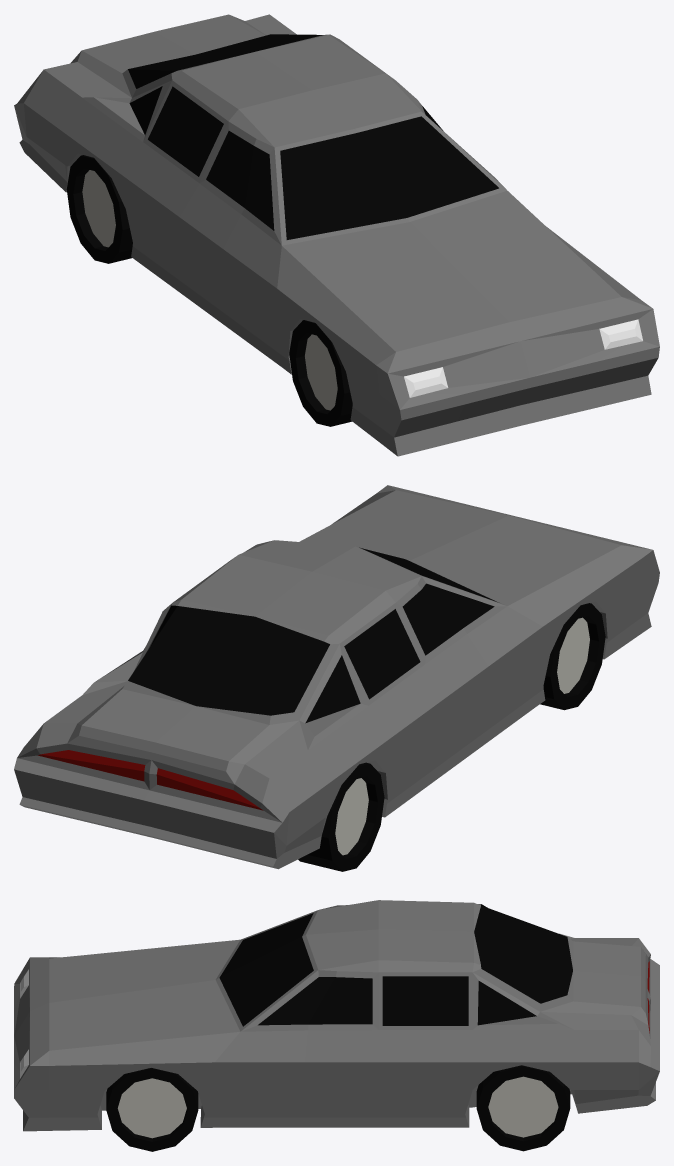
File: Car2.fbx
The picture shows the model from 3 angles, top to bottom: view 1: azimuth 30°, elevation 25°; view 2: azimuth 150°, elevation 25°; view 3: azimuth 270°, elevation 25°; orthographic projection. The views are drawn at different scales.
Visible parts, largest first — view 1: Cube.001, Cylinder.001, Cylinder; view 2: Cube.001, Cylinder.001, Cylinder; view 3: Cube.001, Cylinder.001, Cylinder.
Part boxes in pixels (bbox=[...]): Cube.001: bbox=[14, 14, 659, 456]; Cylinder.001: bbox=[66, 155, 132, 263]; Cylinder: bbox=[289, 320, 352, 426]; Cube.001: bbox=[14, 485, 659, 869]; Cylinder.001: bbox=[298, 762, 384, 871]; Cylinder: bbox=[540, 603, 605, 710]; Cube.001: bbox=[14, 900, 659, 1131]; Cylinder.001: bbox=[476, 1065, 570, 1151]; Cylinder: bbox=[106, 1068, 198, 1151].
Bounding box in the file's own units: 164 × 119 × 412.
